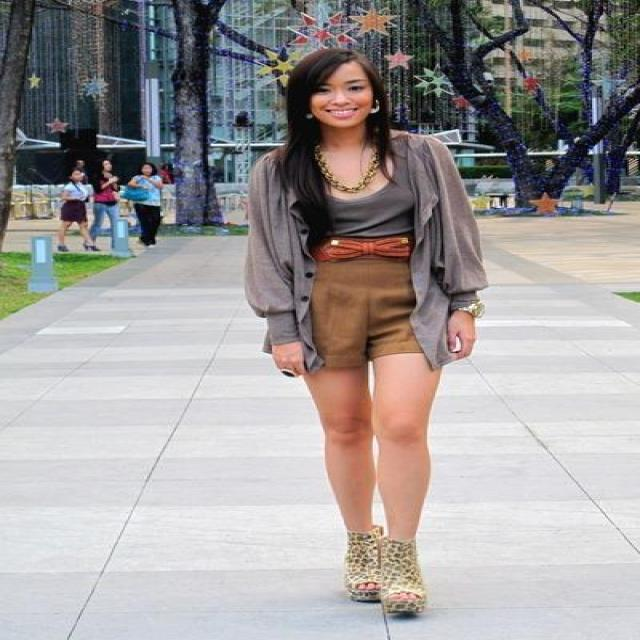shirt: (245, 127, 490, 370)
shoe: (344, 517, 424, 625)
shorts: (293, 260, 421, 379)
